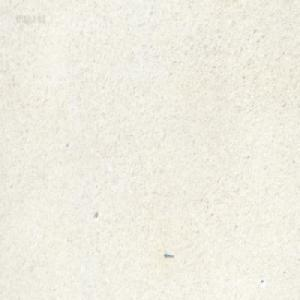Nail: (163, 249, 173, 257)
